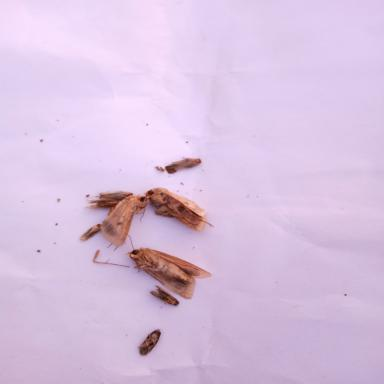abw: (124, 232, 213, 300), (145, 186, 216, 231), (98, 191, 149, 251)
pbw: (165, 156, 203, 175), (148, 284, 180, 306), (138, 328, 162, 356), (82, 198, 128, 210), (79, 221, 103, 242)
